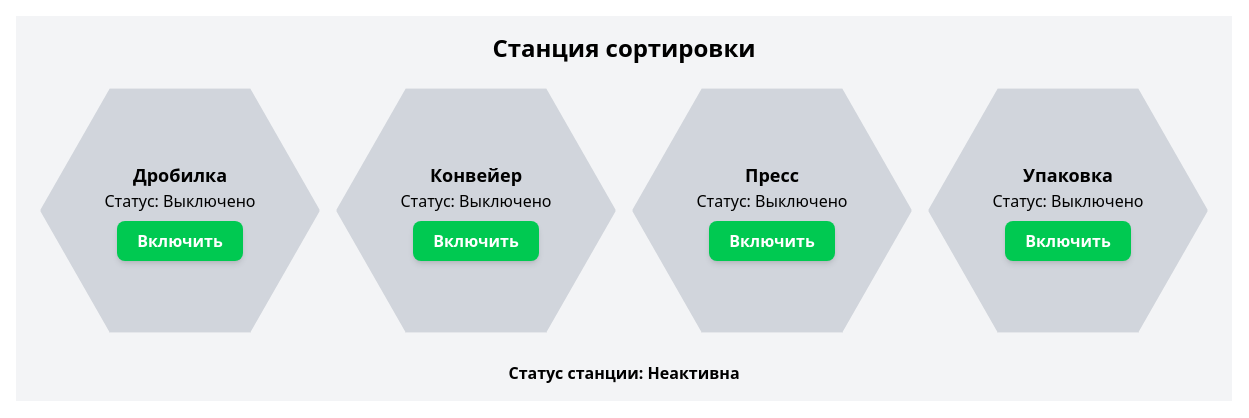
Test: Station Component › проверяет изменение статуса станции при включении/выключении нескольких устройств
// Включаем первое устройство
Click the button "Включить" below "Дробилка".
click(180, 240)  # box [117,220,243,260]
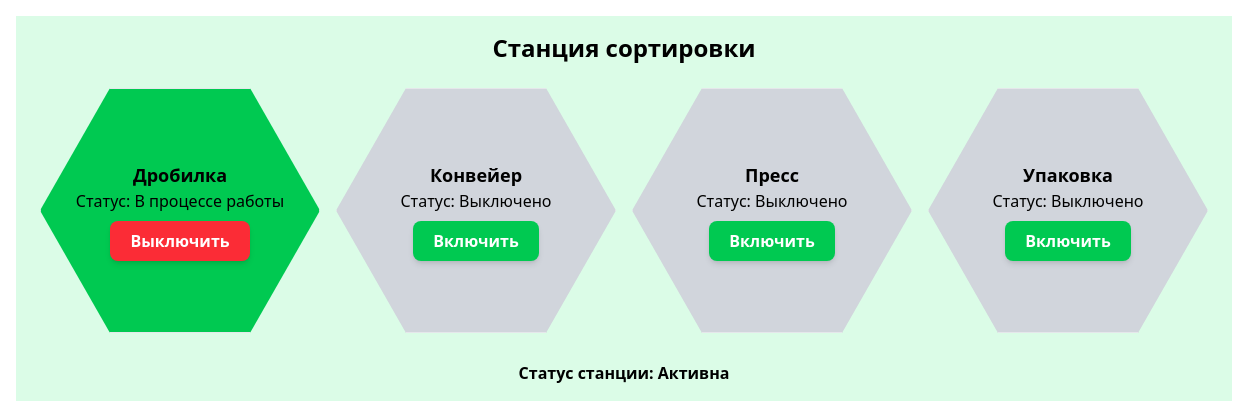
Expected: the text "Статус станции: Активна" is shown, [519,362,729,384]
// Включаем второе устройство
Click the button "Включить" below "Конвейер".
click(476, 240)  # box [413,220,539,260]
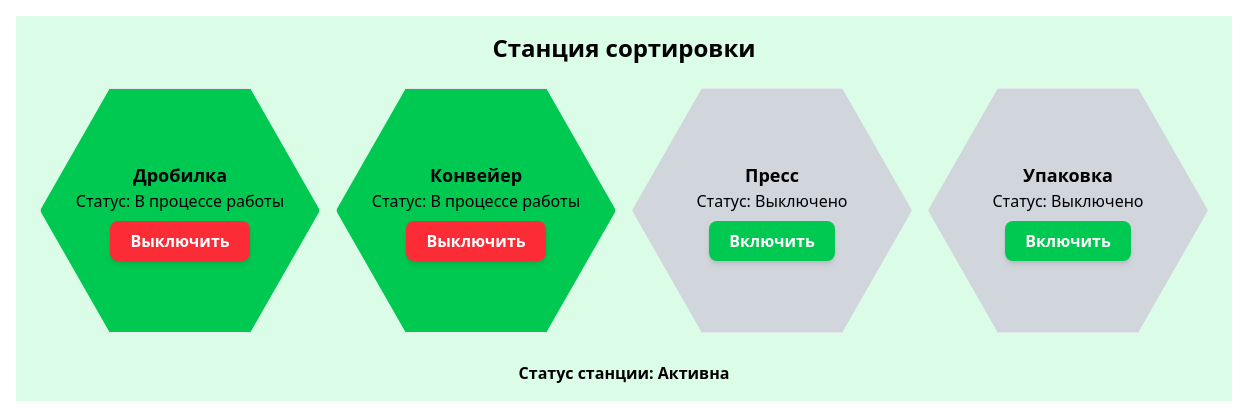
Expected: the text "Статус станции: Активна" is shown, [519,362,729,384]
// Выключаем первое устройство
Click the button named "Включить".
click(180, 240)  # box [110,220,250,260]
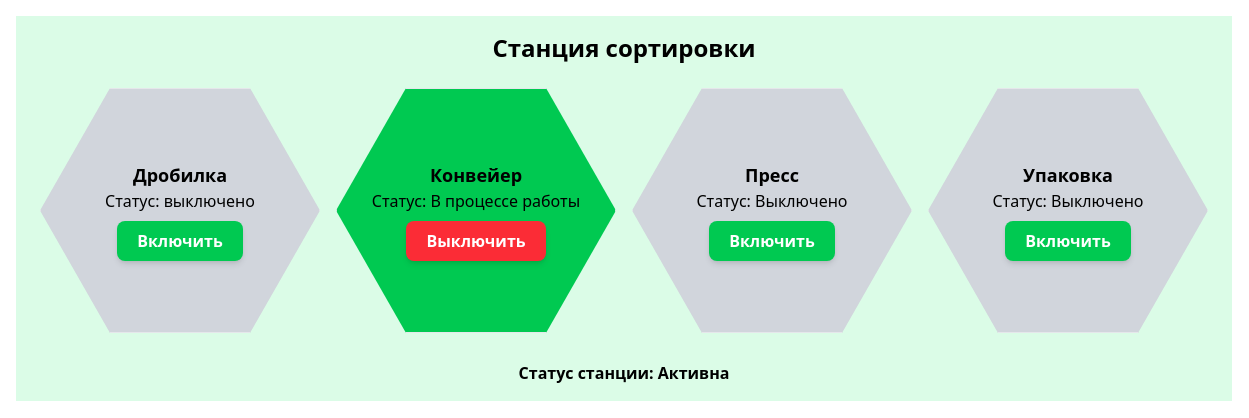
Expected: the text "Статус станции: Активна" is shown, [519,362,729,384]
// Выключаем второе устройство
Click the button named "Включить".
click(476, 240)  # box [406,220,546,260]
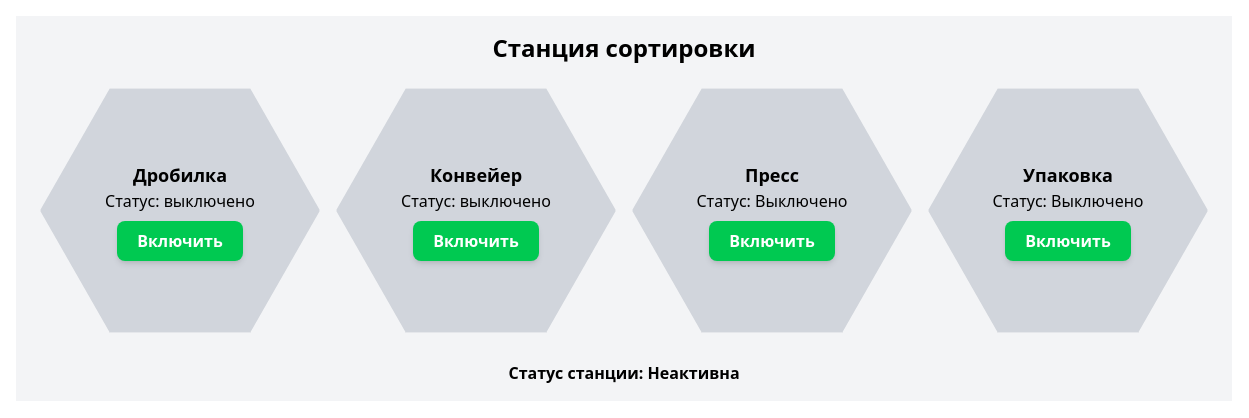
Expected: the text "Статус станции: Неактивна" is shown, [508,362,740,384]
